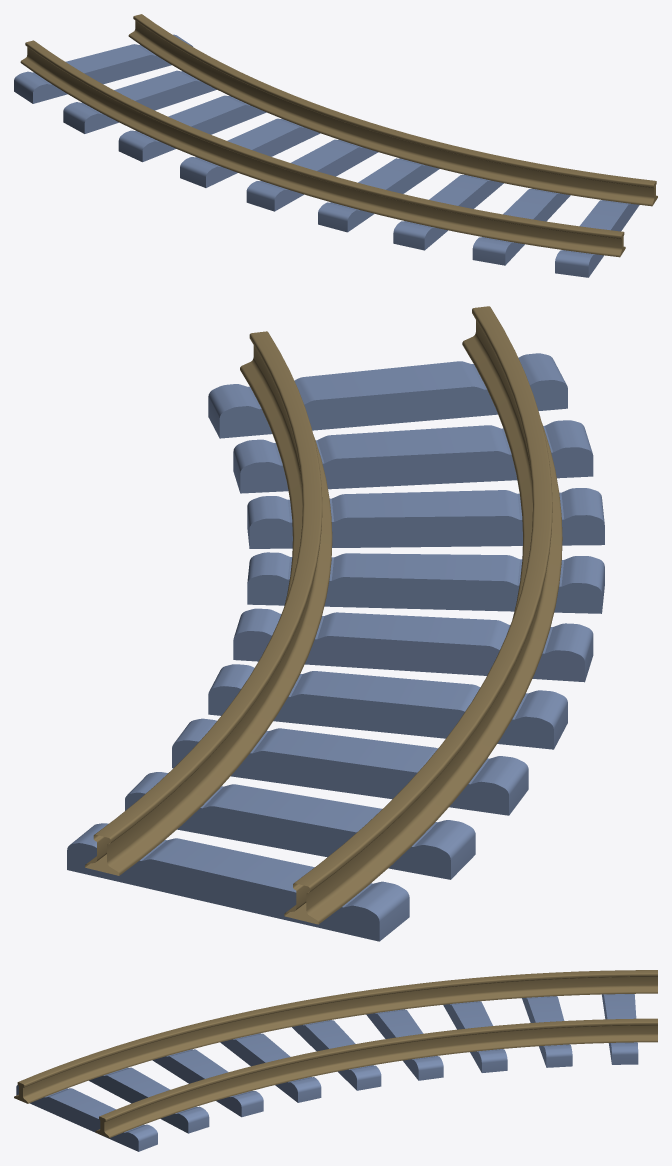
Rendered from Rails B.fbx.
3 renders of one model, top to bottom at view 1: azimuth 30°, elevation 25°; view 2: azimuth 150°, elevation 25°; view 3: azimuth 270°, elevation 25°, orthographic. The views are drawn at different scales.
Visible parts, largest first — view 1: Rails B; view 2: Rails B; view 3: Rails B.
Boxes of the visible parts, box(x1,y1,x2,y2) form: Rails B: box(14, 14, 657, 277); Rails B: box(67, 306, 604, 941); Rails B: box(14, 970, 657, 1151).
Size of the model in its own units: 738 by 65.15 by 1235.
